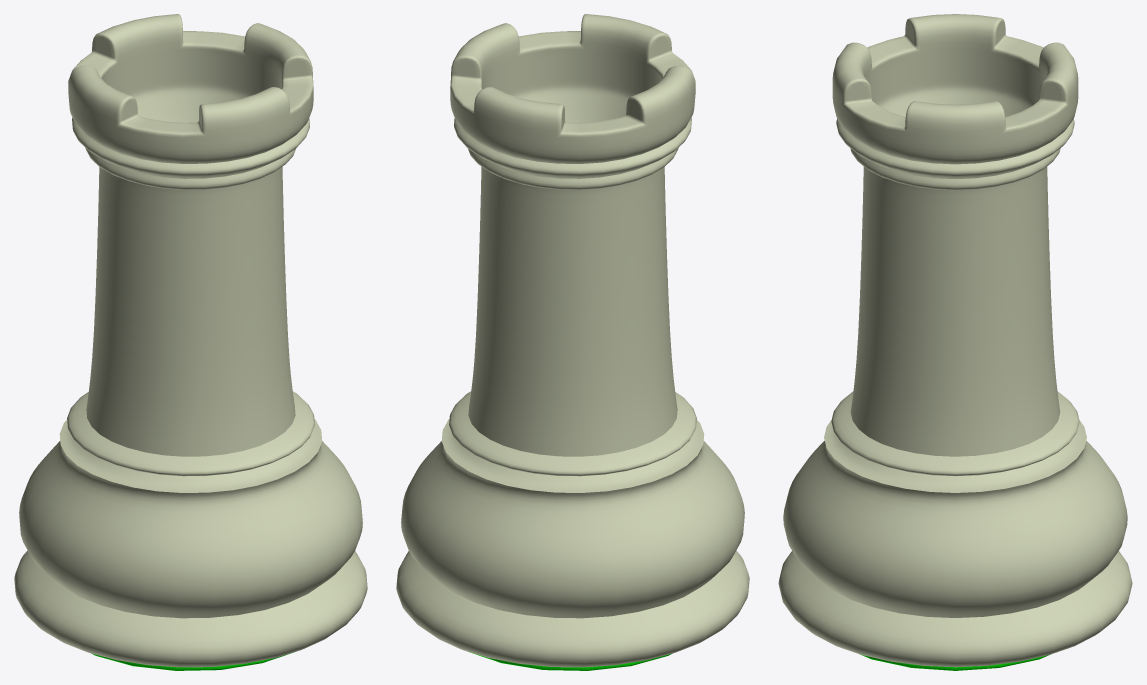
File: Rook.FBX
3 views of the same model, side by side, from view 1: azimuth 30°, elevation 25°; view 2: azimuth 150°, elevation 25°; view 3: azimuth 270°, elevation 25° (orthographic).
Parts seen in each view (by area): view 1: rook_hi; view 2: rook_hi; view 3: rook_hi.
Boxes of the visible parts, <box> form: rook_hi: <box>14,14,367,670</box>; rook_hi: <box>396,14,749,670</box>; rook_hi: <box>778,14,1132,670</box>.
Bounding box in the file's own units: 1.79 × 3.07 × 1.79.
